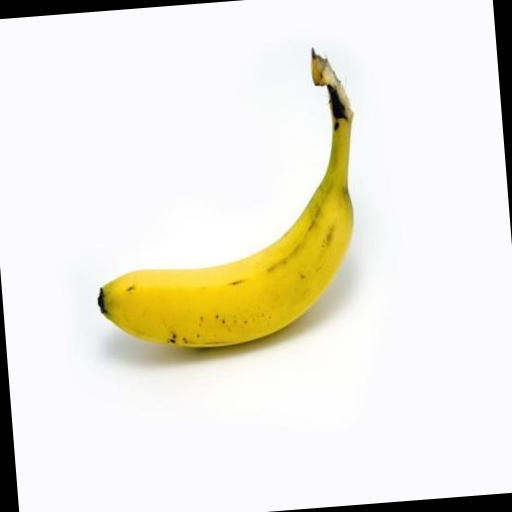fruit: (30, 150, 183, 485)
